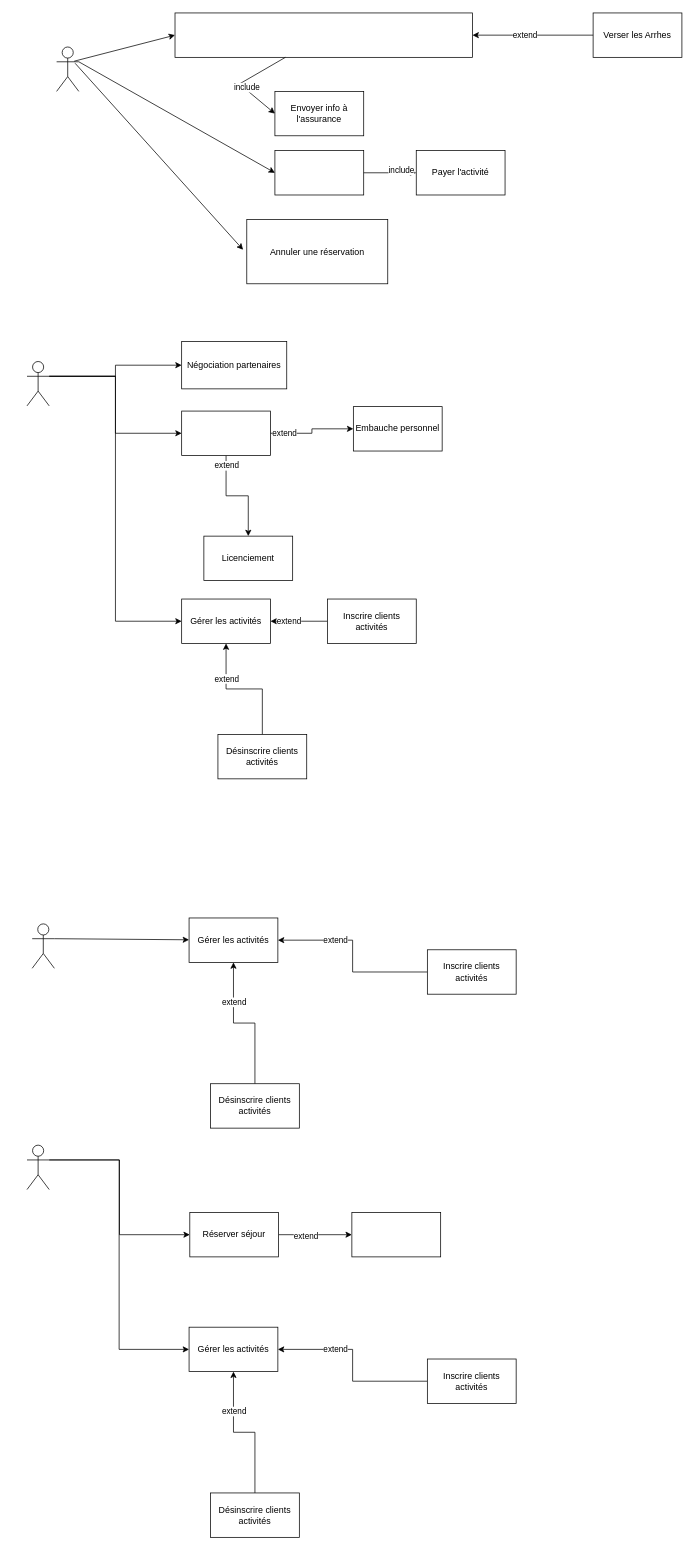
The diagram is 695 pixels wide and 1550 high, and some of its shapes have lost their labels. Each missing label, with the box of its shape:
Client: (56, 46, 79, 91)
Directeur: (26, 361, 49, 406)
Faire un réservation: (174, 12, 472, 57)
Gestion personnel: (181, 410, 270, 455)
Gestionnaire: (26, 1144, 49, 1190)
Gérer facture séjour: (351, 1212, 441, 1257)
Organisateurs: (31, 923, 54, 968)
S'inscrire à une activité: (274, 150, 364, 195)
